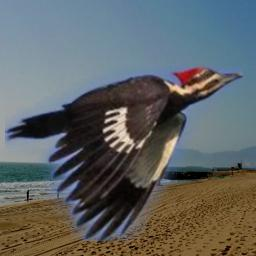Woodpecker: (5, 65, 243, 241)
